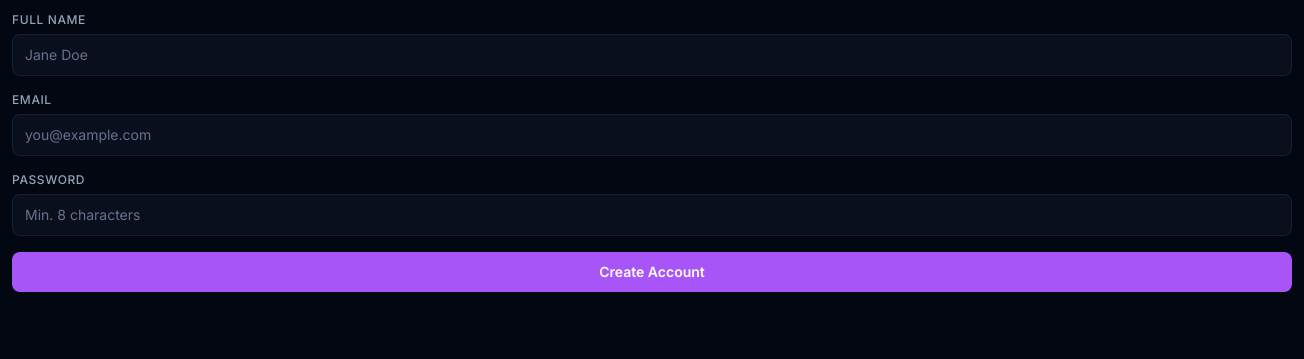
SignupForm › shows error when signup fails
Step 1. Type "Dup User" into the field labelled "Full Name" → (652, 55), box [12,34,1292,76]
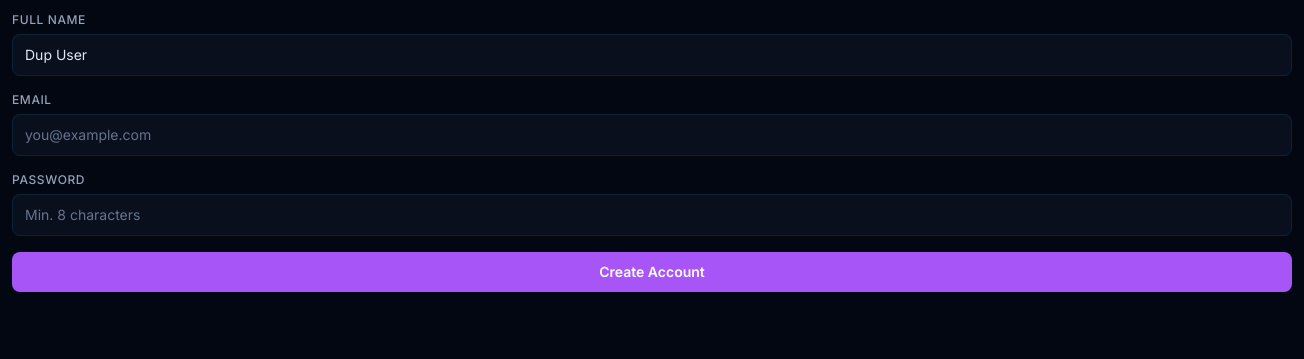
Step 2. Type "dup@test.com" into the field labelled "Email" → (652, 135), box [12,114,1292,156]
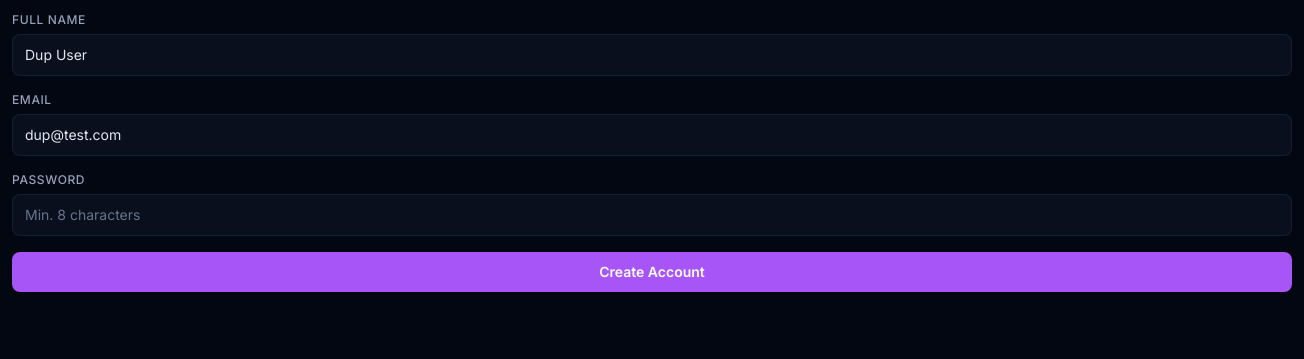
Step 3. Type "password123" into the password field labelled "Password" → (652, 215), box [12,194,1292,236]
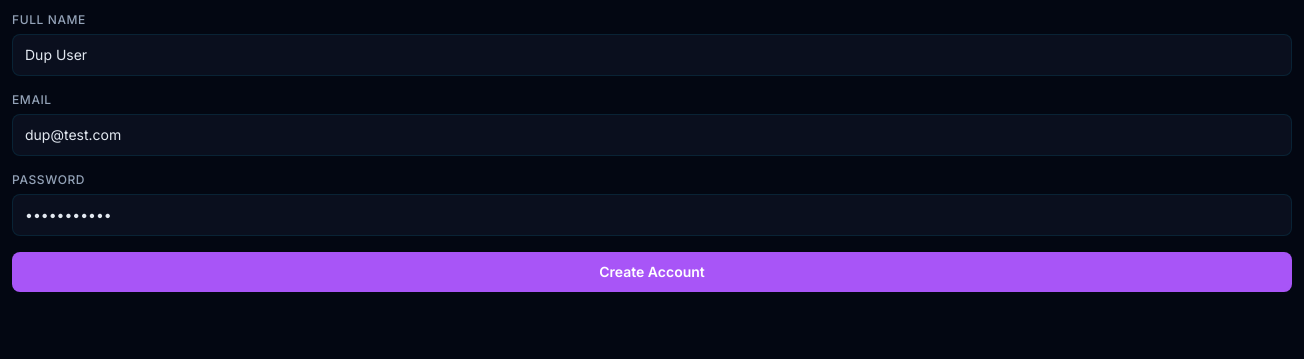
Step 4. Click the button "Create Account" → (652, 272), box [12,252,1292,292]
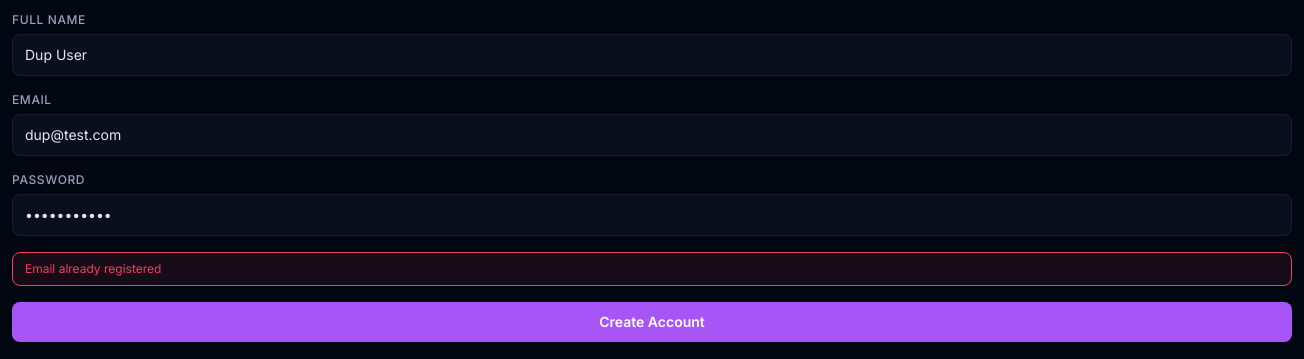
Check: the message with test id "signup-error" reads "Email already registered", box [25,261,161,276]
